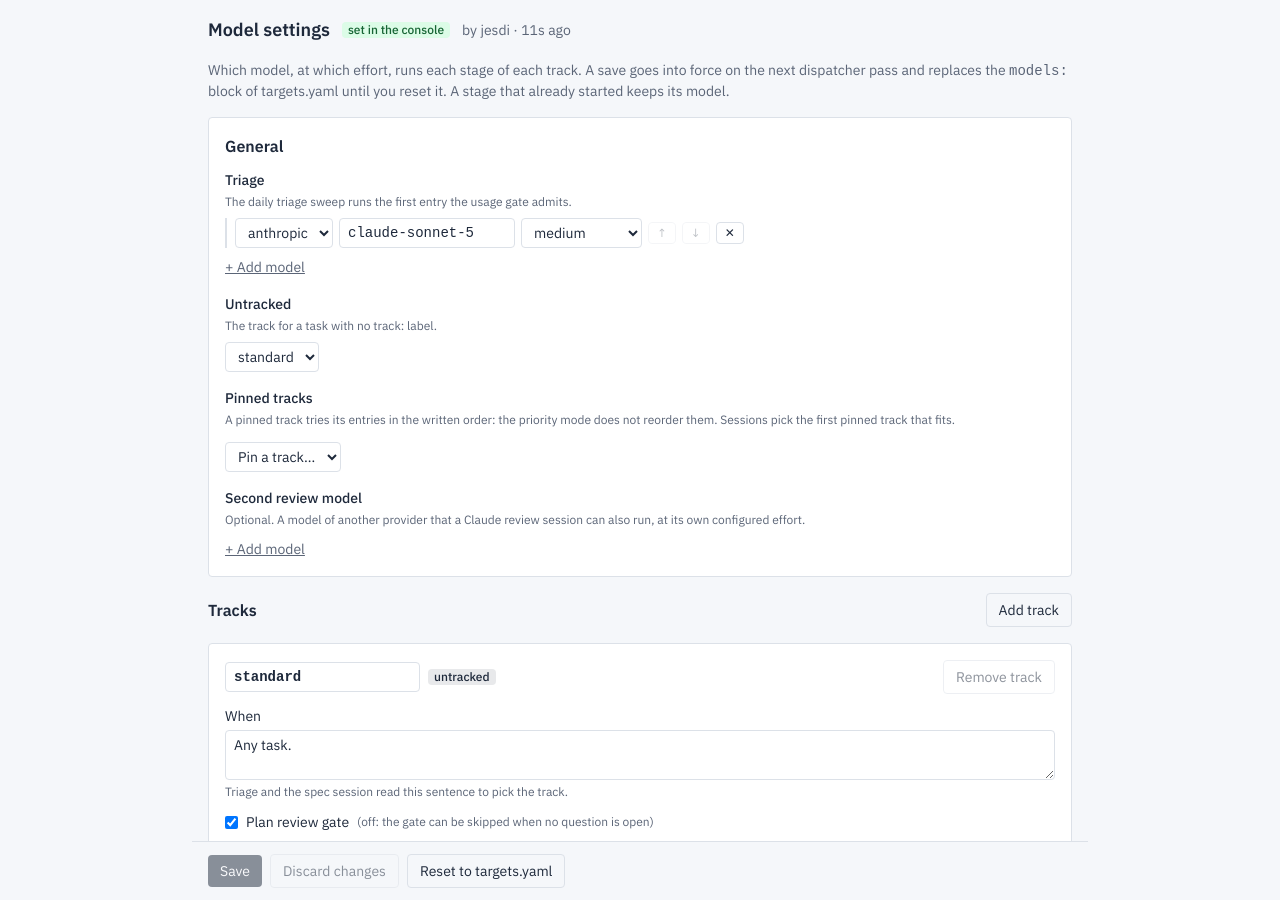
Test: resets to targets.yaml only after a confirm
The width and height of the screenshot is (1280, 900).
Click the button "Reset to targets.yaml" at (486, 871), box 407,854 -> 565,888
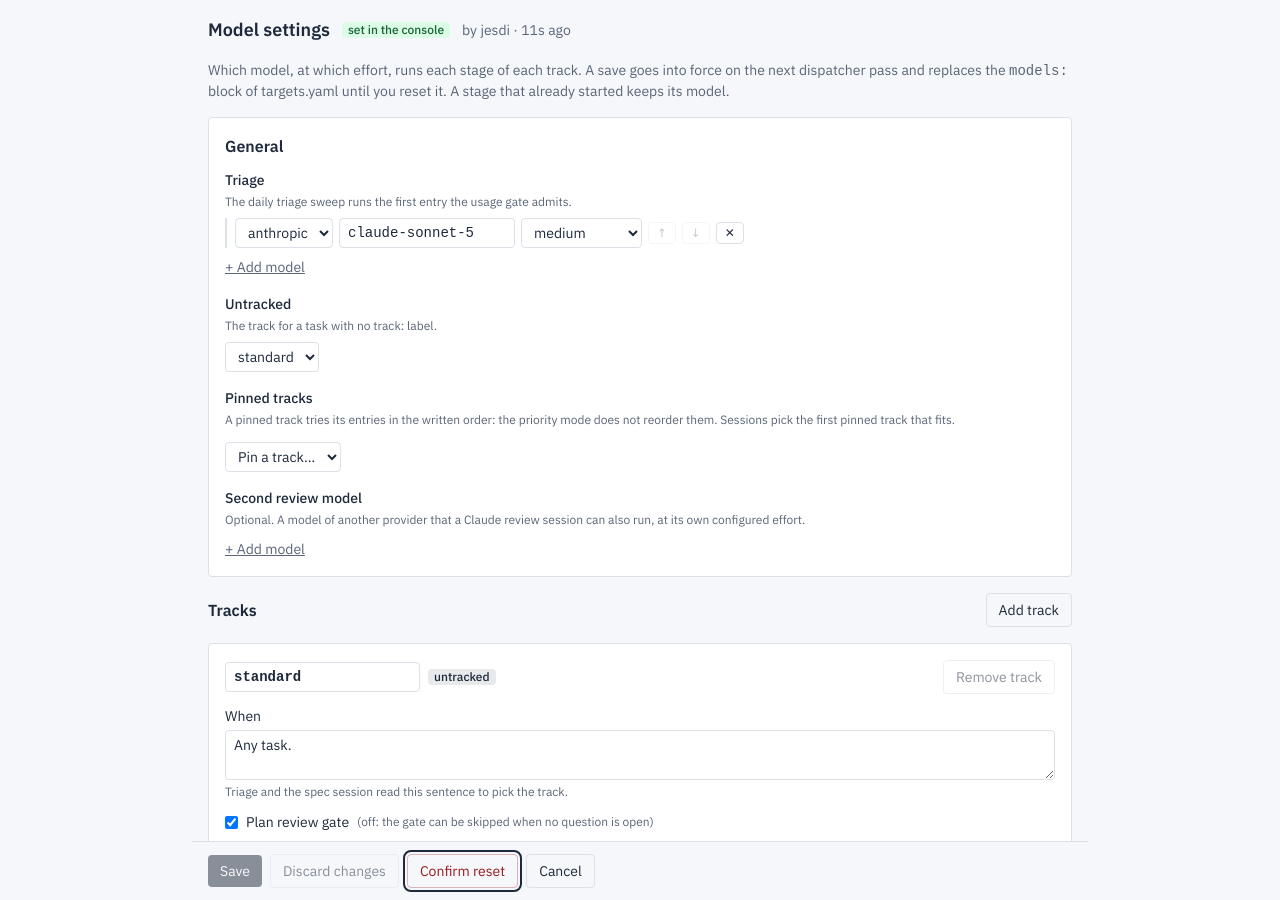
Click the button "Confirm reset" at (463, 871), box 407,854 -> 518,888
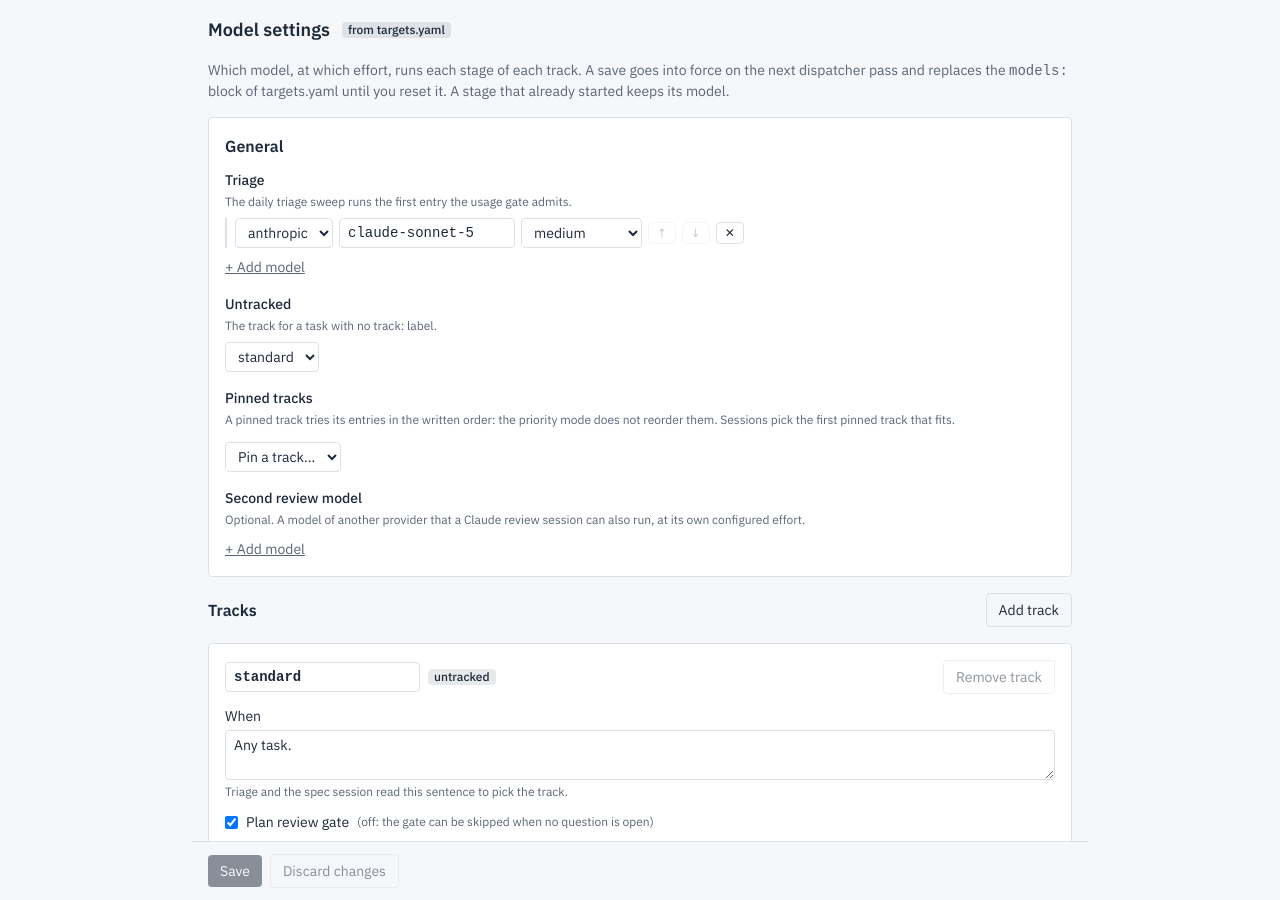
Check: the text with test id "settings-source" reads "from targets.yaml", box 348,22 -> 445,37
